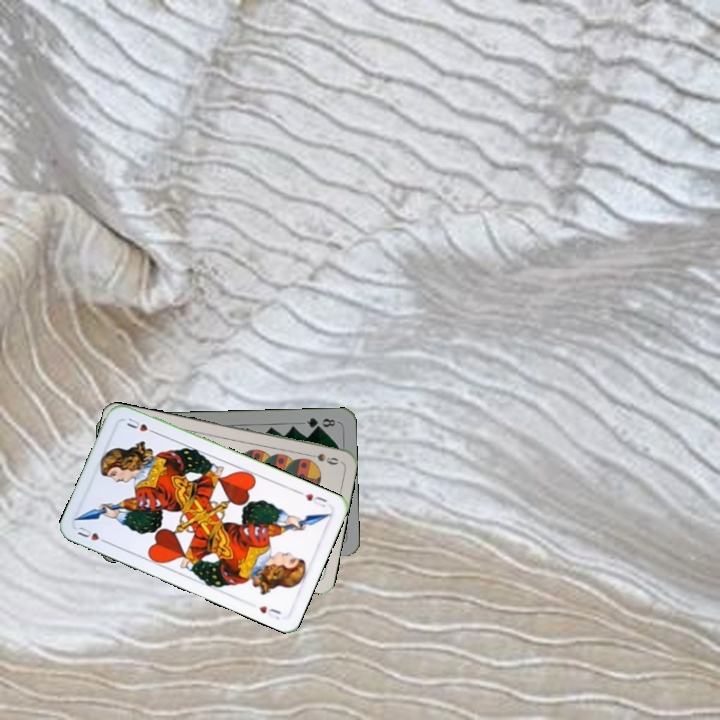G8: (303, 413, 338, 431)
HU: (74, 522, 111, 546), (294, 487, 329, 510)
S9: (302, 449, 342, 468)
